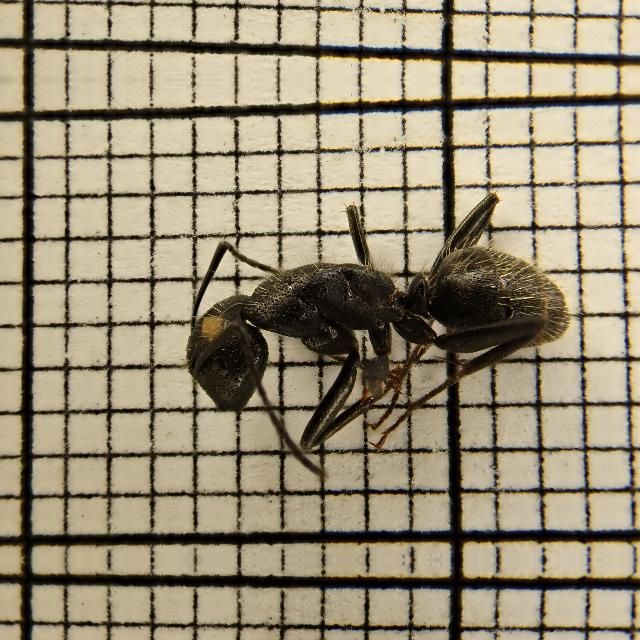Camponotus: (163, 205, 581, 449)
